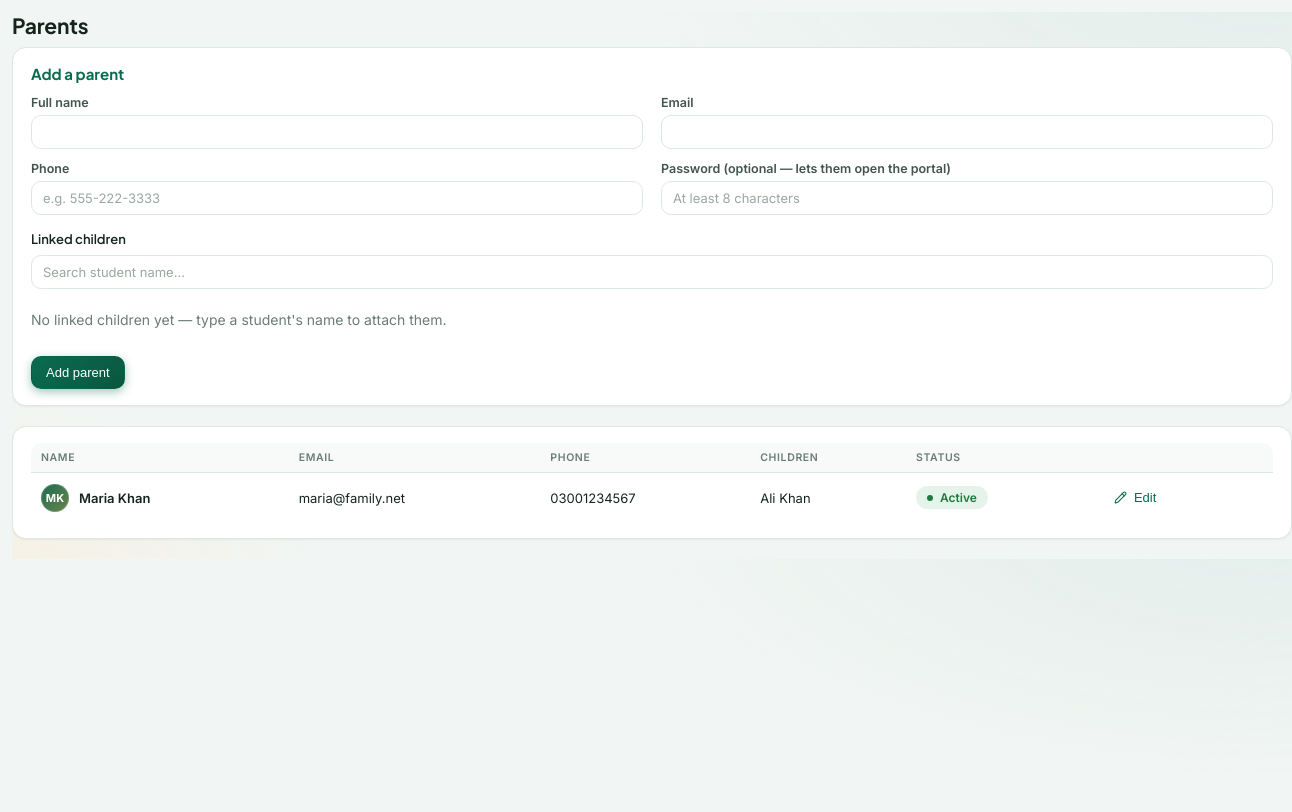
it: Parents page › cancels an edit and restores the add form
Expected: the text "Maria Khan" is shown, [79,490,150,506]
Click the button "Edit": (1135, 498) [1099,481,1171,514]
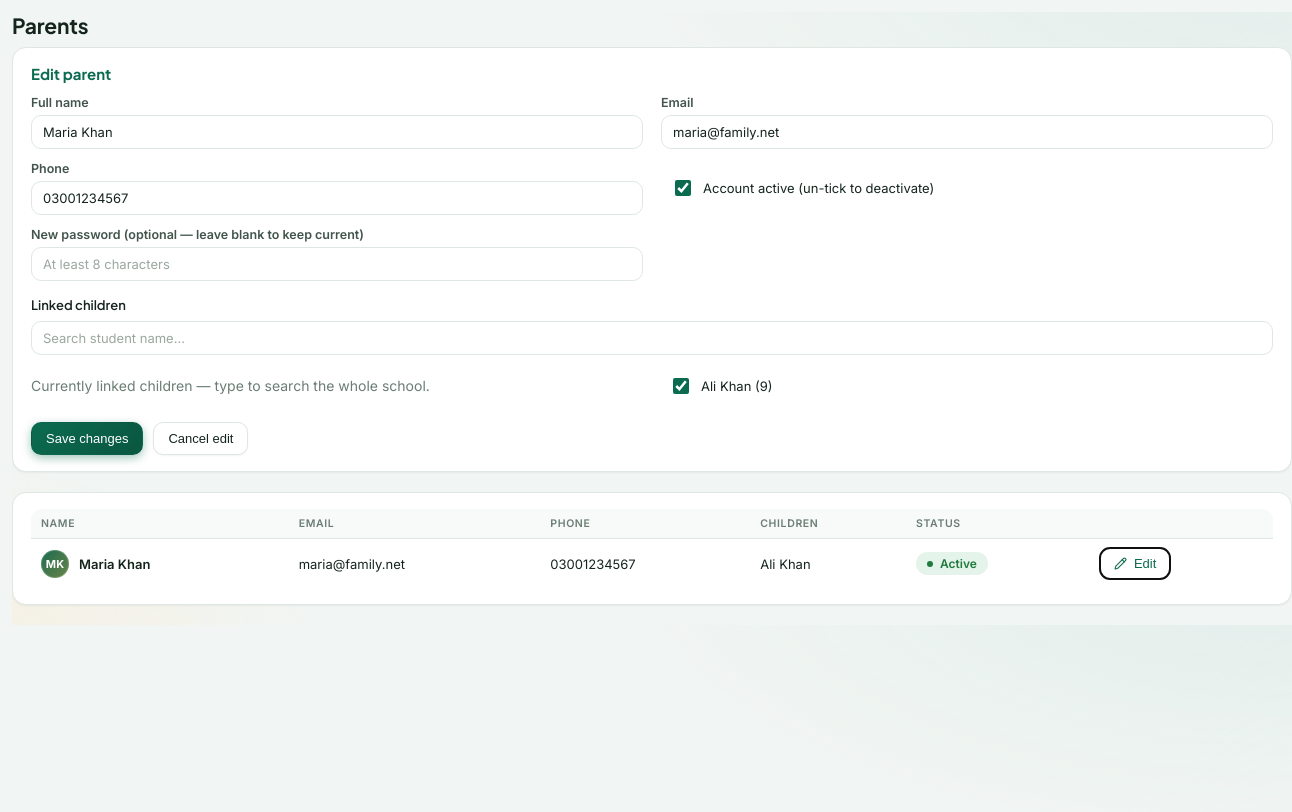
Now the heading "Edit parent" is shown, box [31,64,111,83]
Click the button "Cancel edit": (201, 438) [153,422,248,455]
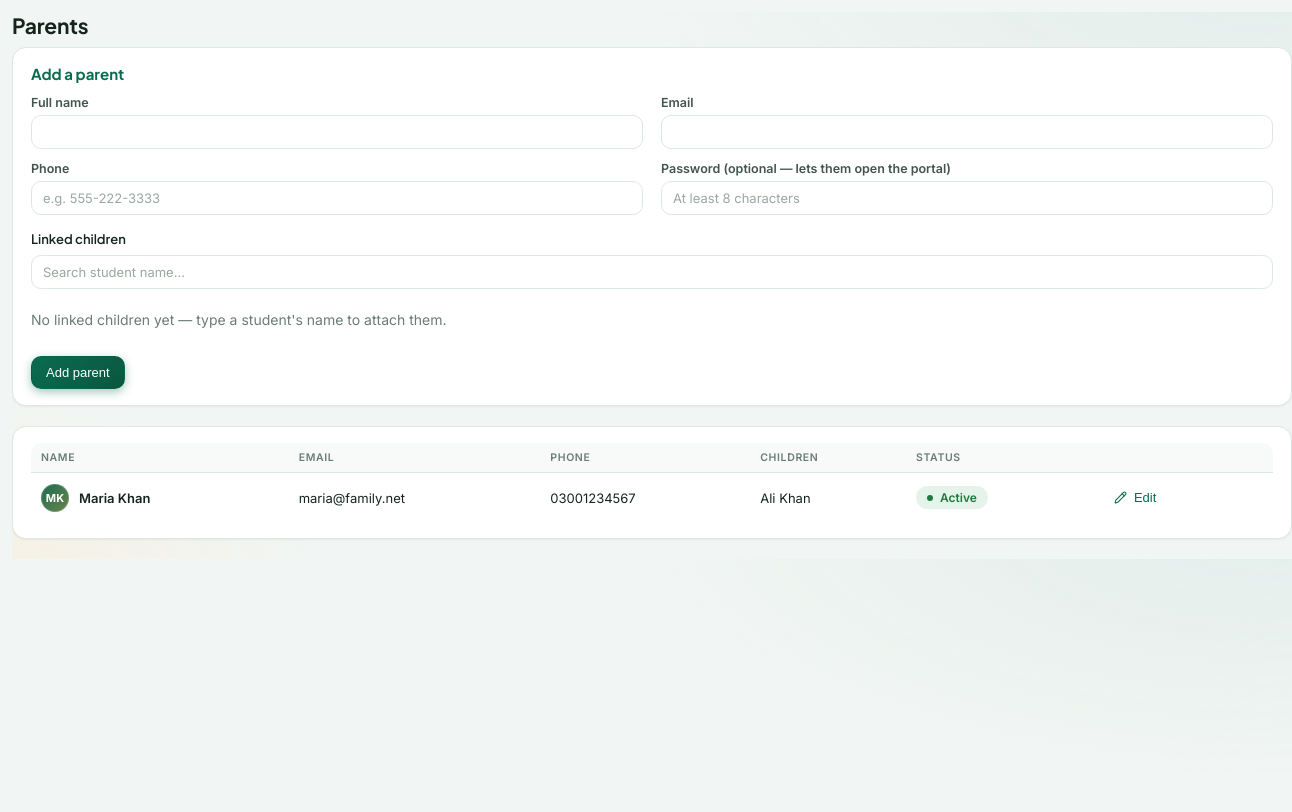
Now the heading "Add a parent" is shown, box [31,64,124,83]
